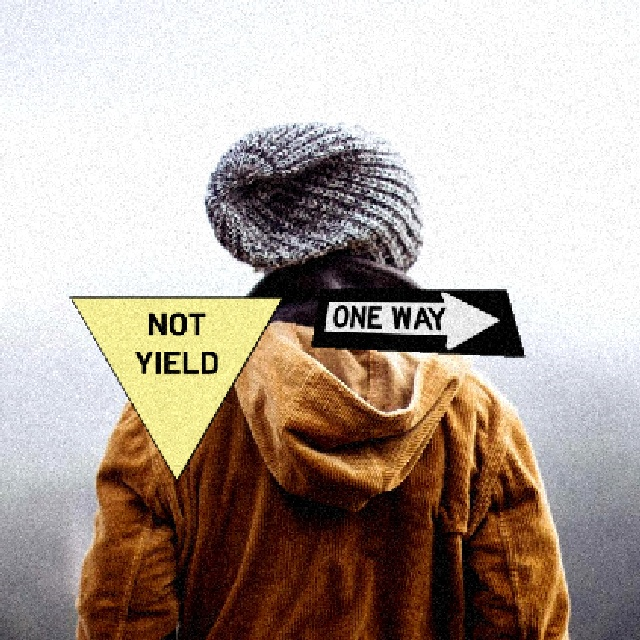NOT_YIELD: (68, 295, 283, 481)
ONE_WAY_ right: (309, 287, 524, 356)
